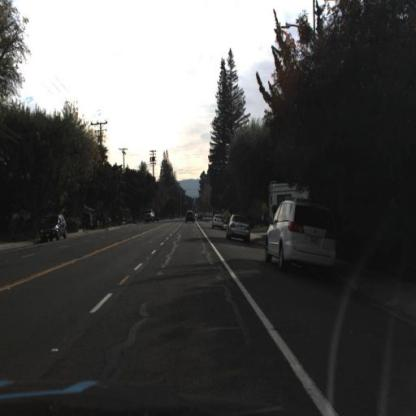car: (264, 200, 340, 277), (38, 215, 67, 243), (226, 214, 253, 241), (212, 212, 225, 233)
truck: (266, 178, 328, 222)
